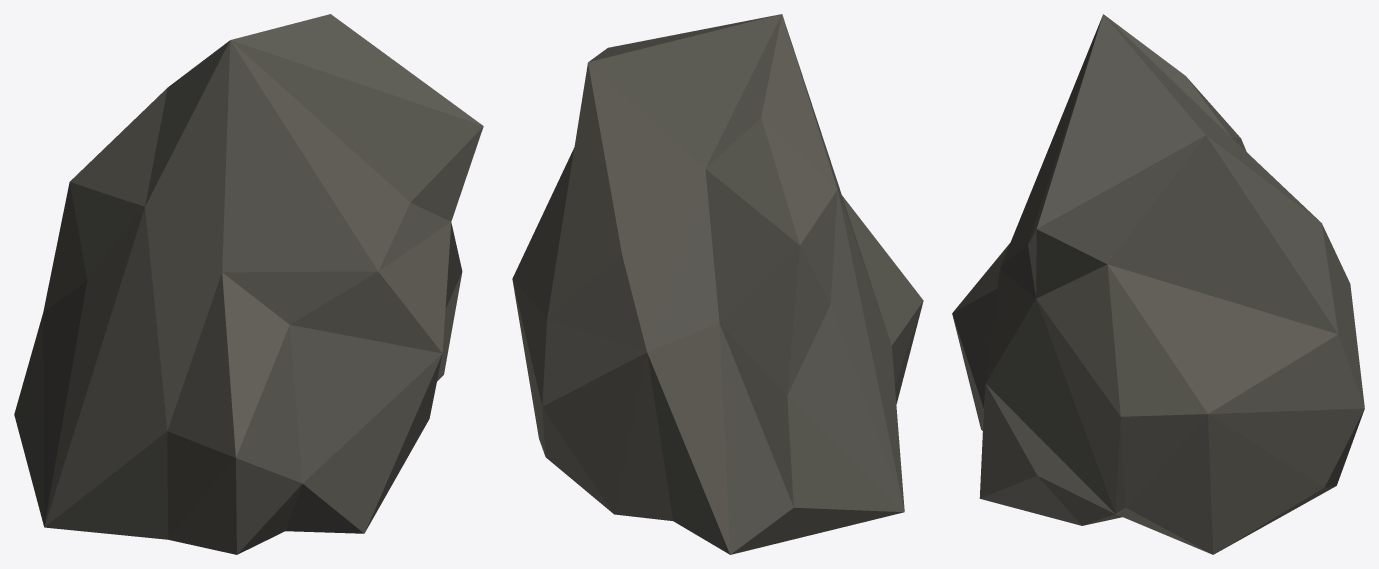
The model's file is rock3-lowpoly.fbx.
3 views of the same model, side by side, from view 1: azimuth 30°, elevation 25°; view 2: azimuth 150°, elevation 25°; view 3: azimuth 270°, elevation 25° (orthographic). The views are drawn at different scales.
Visible parts, largest first — view 1: Retopo_Cube.002; view 2: Retopo_Cube.002; view 3: Retopo_Cube.002.
Part boxes in pixels (box(x1,y1,x2,y2)): Retopo_Cube.002: box(14, 14, 483, 554); Retopo_Cube.002: box(512, 14, 923, 554); Retopo_Cube.002: box(952, 14, 1364, 554).
Bounding box in the file's own units: 7966 × 8970 × 7343.
